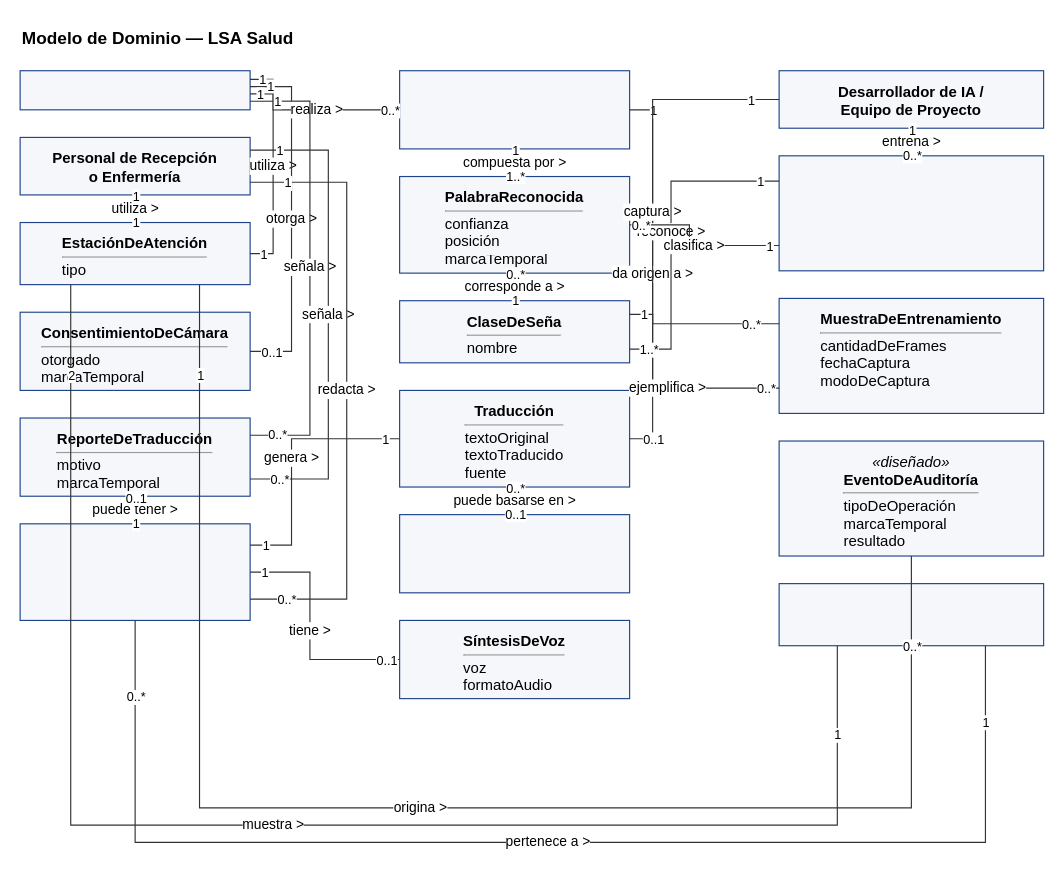
This 1064x869 diagram has some shape labels left out. The shapes that lost their labels are listed below. From the top down, each one's box as (x1, y1, x2, y2) in pixels, then its label:
(19, 70, 250, 110): Paciente
(398, 70, 630, 149): SecuenciaDeSeñas estado marcaTemporalInicio
(778, 155, 1044, 271): ModeloDeReconocimiento versión cantidadDeClases exactitudDeValidación
(19, 523, 250, 620): Mensaje texto rolEmisor horaEnvío
(398, 513, 630, 593): PlantillaMédica combinaciónDeSeñas fraseResultante
(778, 582, 1044, 646): Conversación fechaInicio
